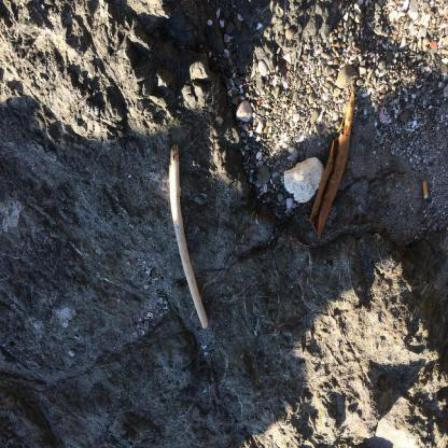Cigarette: (424, 182, 430, 200)
Styrofoam piece: (285, 158, 325, 203)
